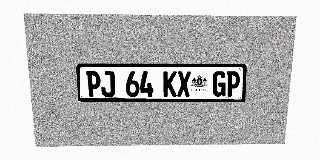4: (140, 71, 153, 97)
6: (125, 71, 139, 97)
G: (212, 71, 226, 97)
J: (100, 71, 115, 97)
K: (163, 71, 177, 97)
P: (86, 71, 101, 97), (226, 71, 240, 96)
X: (177, 71, 191, 97)
